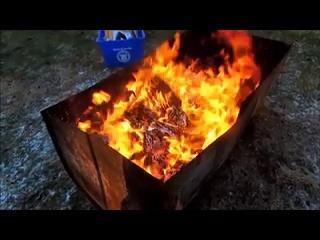Fire: (69, 48, 232, 157)
